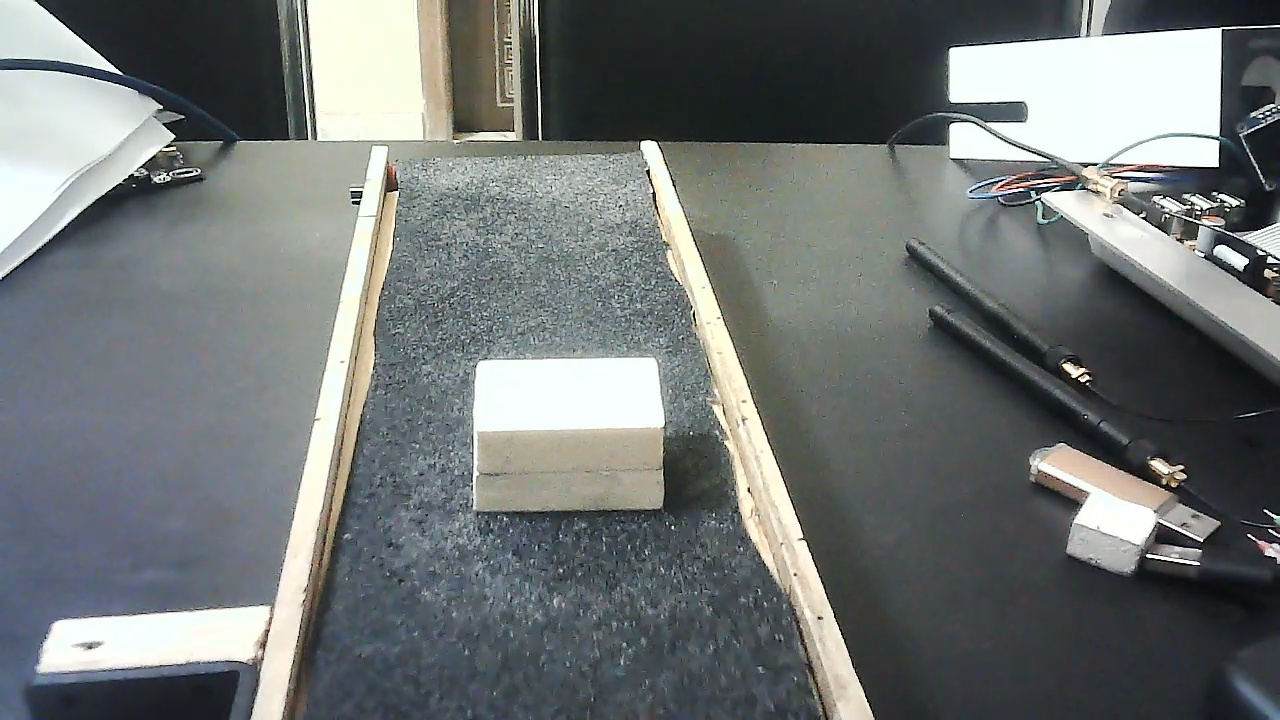BIG: (471, 339, 665, 533)
